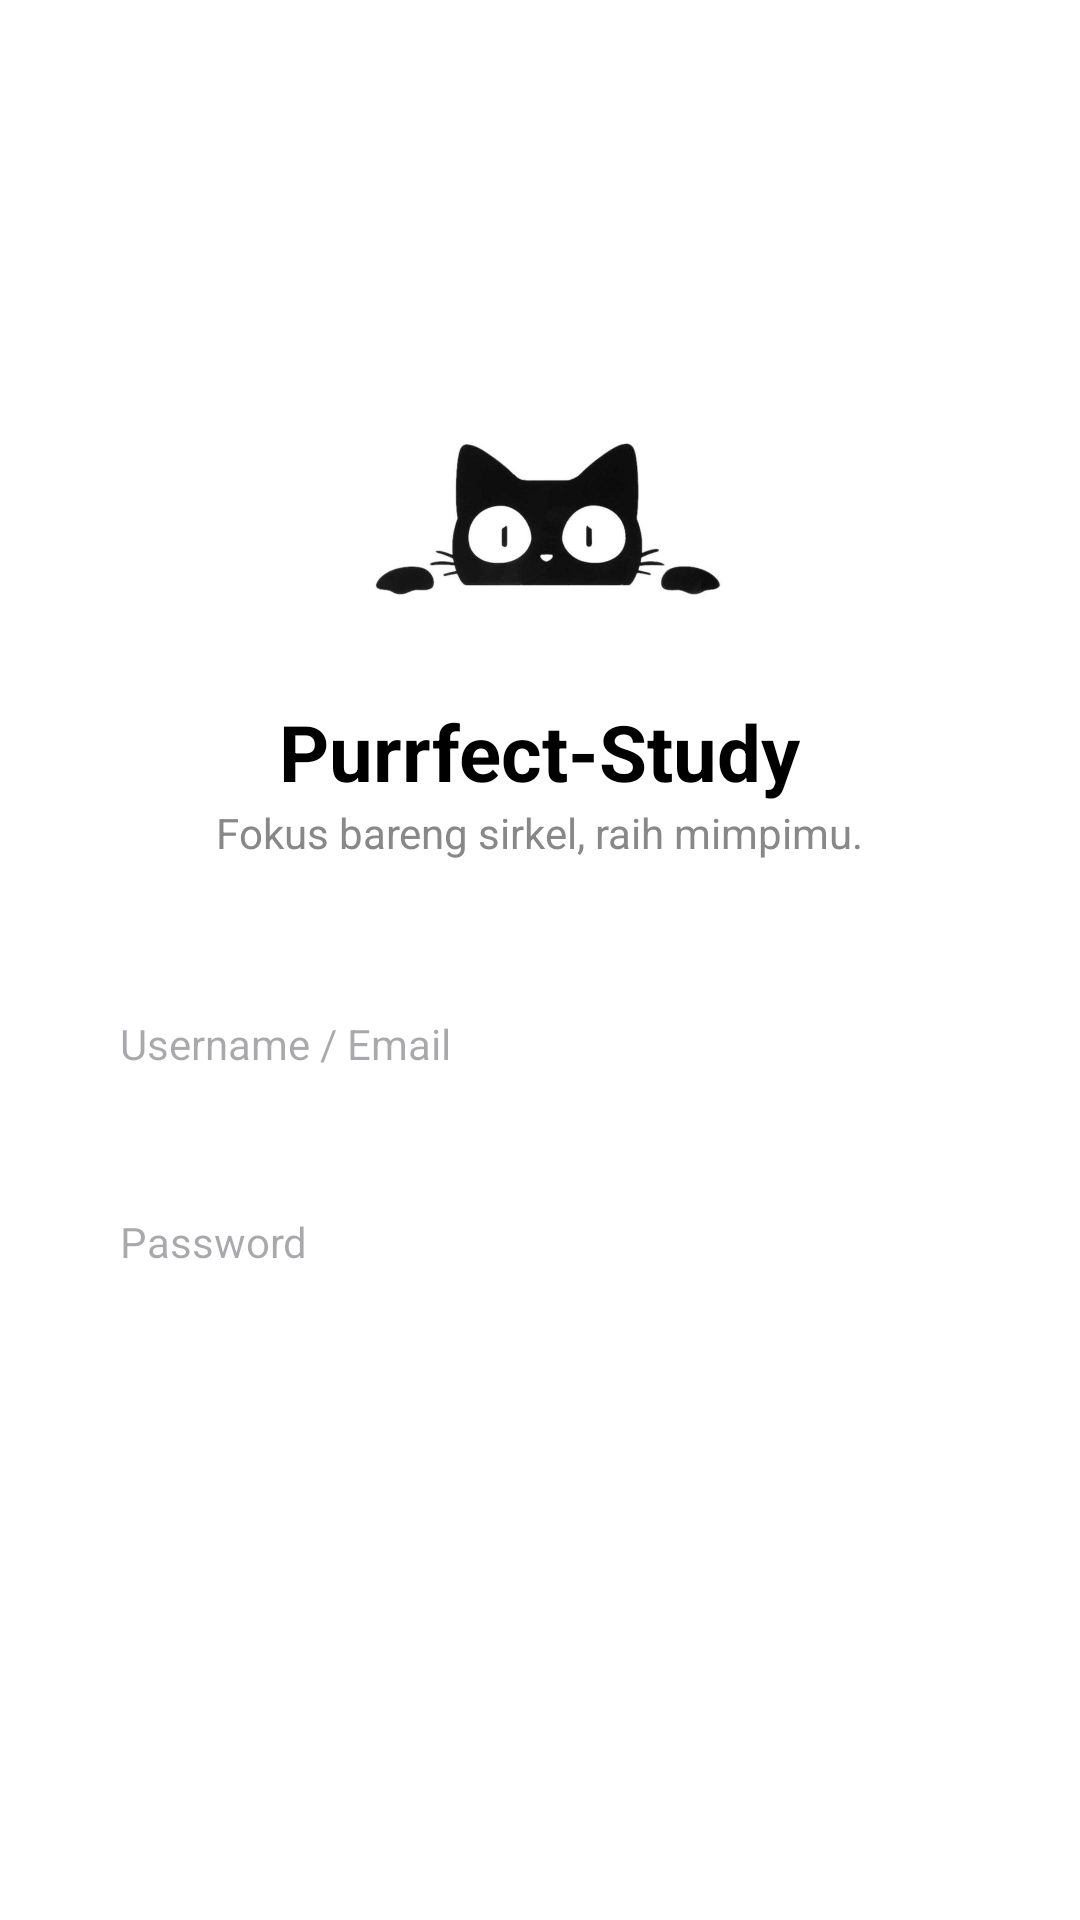

Icon click points for this 1080*1920 phone screenshot, format point (x, y):
cat peek: point (548, 519)
